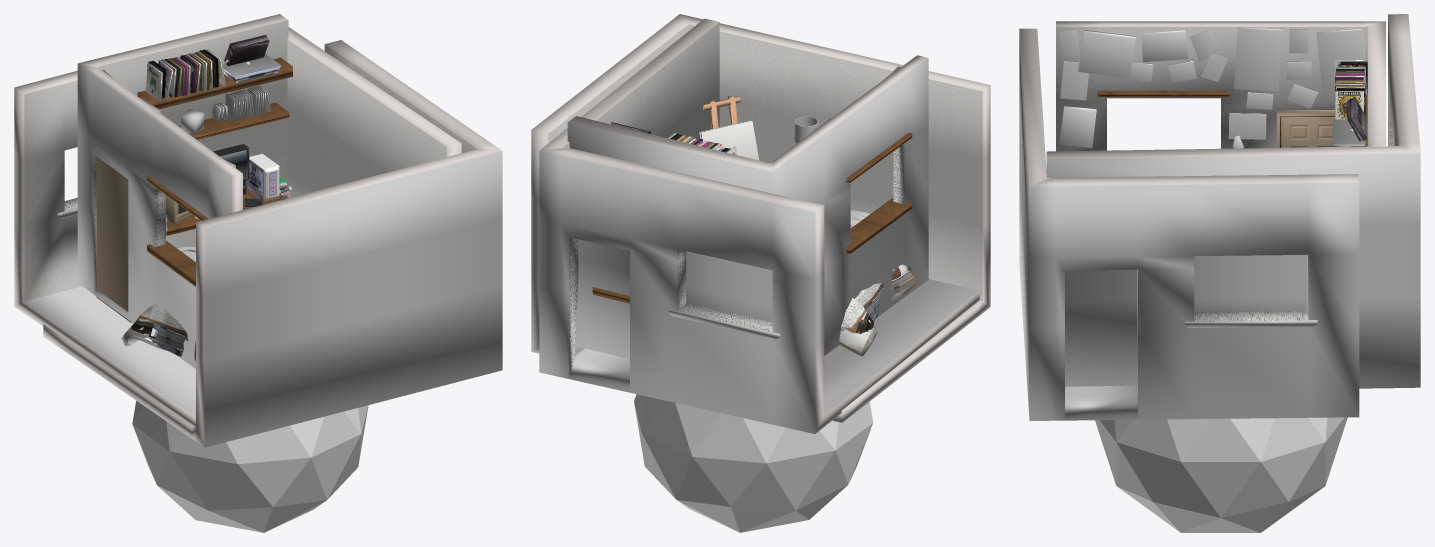
Rendered from interactive collage.fbx.
3 renders of one model, left to right at view 1: azimuth 30°, elevation 25°; view 2: azimuth 150°, elevation 25°; view 3: azimuth 270°, elevation 25°, orthographic. The views are drawn at different scales.
Parts seen in each view (by area): view 1: TV+PAINTSCREENWALLS, Cube, Icosphere, Cube.006, Cube.083, Cube.013, Cube.011, Cube.012, Cube.015, Cube.018, Cube.024, Cube.088 (+1 smaller); view 2: TV+PAINTSCREENWALLS, Cube, Icosphere, Cube.083, Cube.015, Cube.029, Cube.028; view 3: TV+PAINTSCREENWALLS, Icosphere, Cube, Cube.034, Cube.035, Cube.006, Cube.033, Cube.036, Cube.037, Cube.043, Cube.056, Cube.039 (+10 smaller).
Boxes of the visible parts, x1,y1,x2,y2 form: TV+PAINTSCREENWALLS: (14, 27, 502, 447); Cube: (77, 14, 288, 368); Icosphere: (132, 401, 368, 532); Cube.006: (96, 156, 131, 322); Cube.083: (121, 303, 195, 363); Cube.013: (137, 57, 292, 109); Cube.011: (246, 153, 279, 201); Cube.012: (178, 102, 289, 139); Cube.015: (147, 241, 195, 286); Cube.018: (222, 54, 280, 82); Cube.024: (224, 35, 269, 65); Cube.088: (213, 144, 249, 181); TV+PAINTSCREENWALLS: (531, 14, 990, 433); Cube: (567, 55, 928, 359); Icosphere: (634, 394, 873, 532); Cube.083: (839, 218, 918, 356); Cube.015: (846, 198, 912, 253); Cube.029: (699, 120, 759, 160); Cube.028: (703, 95, 740, 128); TV+PAINTSCREENWALLS: (1019, 14, 1420, 420); Icosphere: (1095, 417, 1347, 532); Cube: (1056, 21, 1385, 151); Cube.034: (1234, 27, 1282, 91); Cube.035: (1078, 30, 1135, 78); Cube.006: (1277, 110, 1335, 147); Cube.033: (1316, 29, 1364, 93); Cube.036: (1141, 30, 1187, 62); Cube.037: (1059, 106, 1096, 148); Cube.043: (1228, 113, 1266, 139); Cube.056: (1097, 90, 1230, 96); Cube.039: (1060, 60, 1088, 100).
Size of the model in its own units: 297 by 389 by 311.
